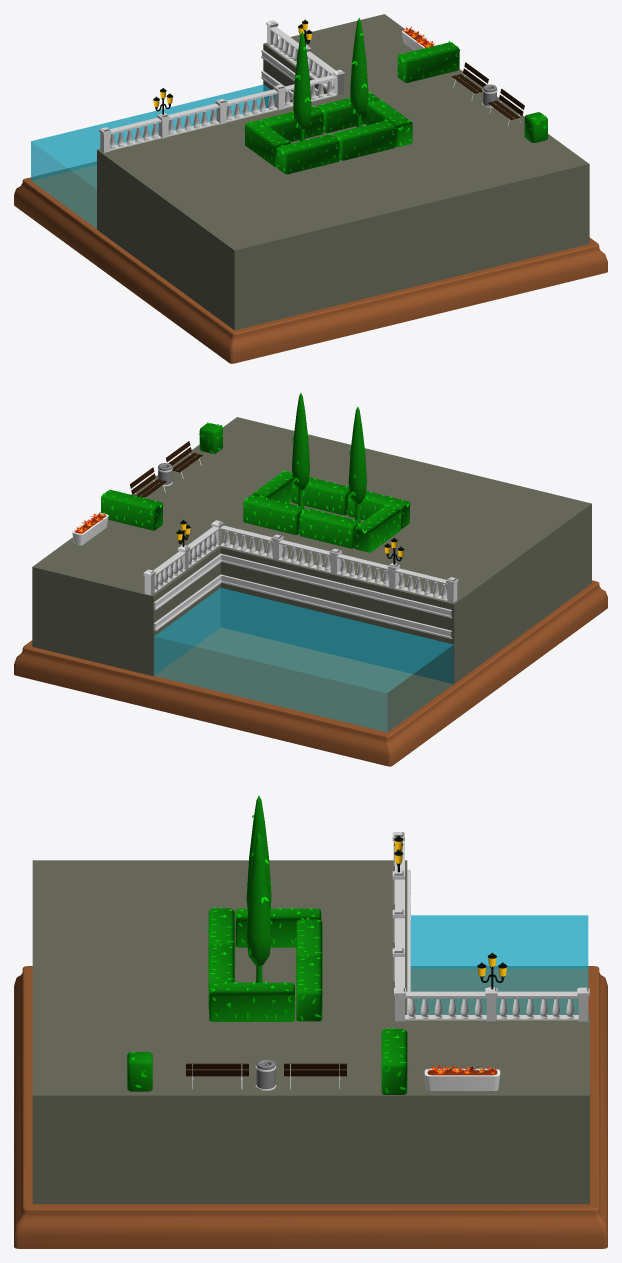
Rendered from Level51.FBX.
The picture shows the model from 3 angles, top to bottom: view 1: azimuth 30°, elevation 25°; view 2: azimuth 150°, elevation 25°; view 3: azimuth 270°, elevation 25°; orthographic projection. The views are drawn at different scales.
Visible parts, largest first — view 1: Box155; view 2: Box155; view 3: Box155.
Part boxes in pixels (box(x1,y1,x2,y2)): Box155: box(14, 14, 607, 363); Box155: box(14, 393, 607, 766); Box155: box(14, 795, 607, 1248).
Bounding box in the file's own units: 336 × 193 × 336.
